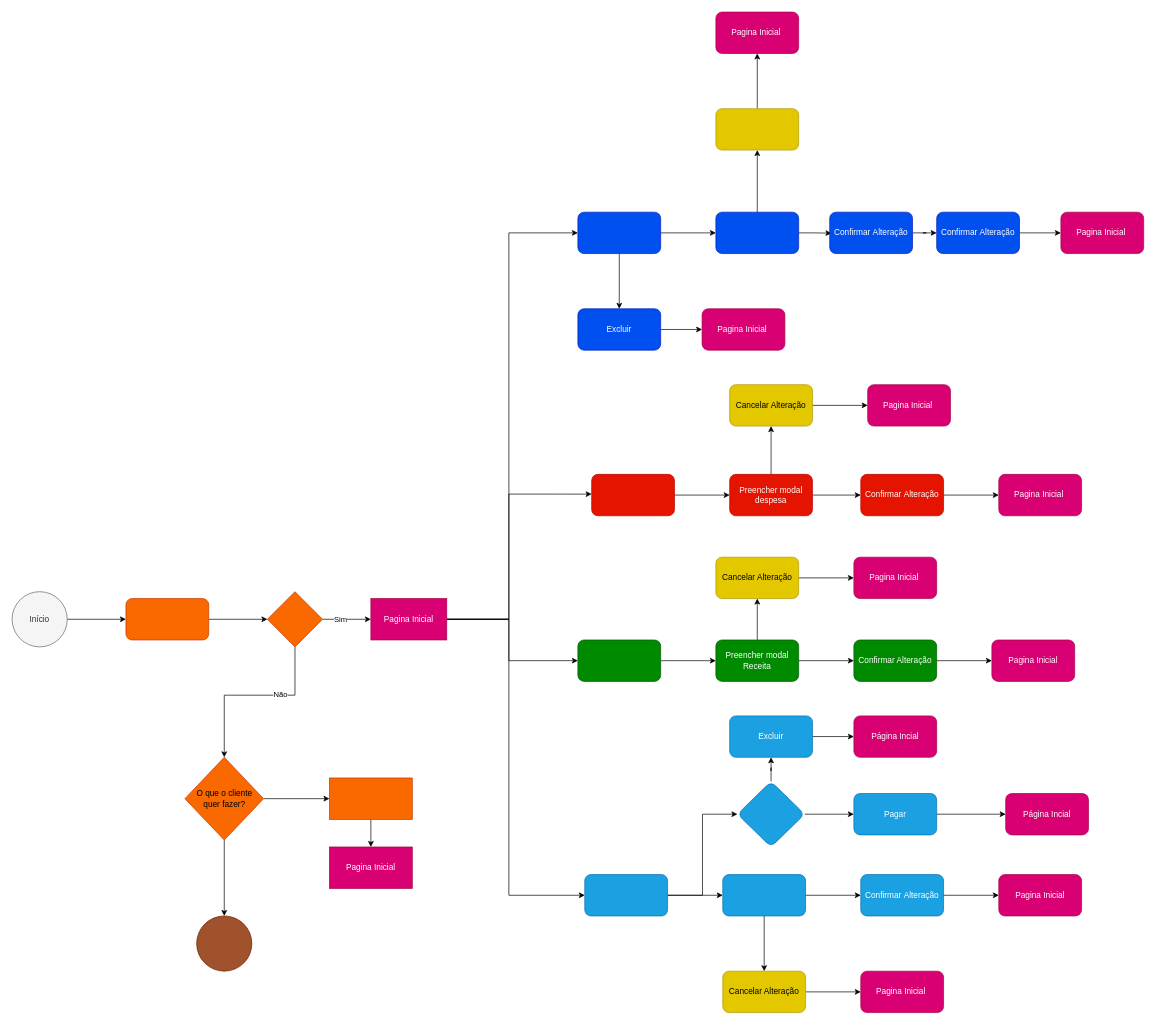
Image size: 1156x1025. Some labels were removed from this diagram. The shapes that lost their labels are listed below. From the top down, each one's centre as x and y in pixels, then its label:
At point (757, 129): "Cancelar Operação".
At point (619, 232): "Editar Categorias".
At point (757, 232): "Criar nova categoria".
At point (632, 495): "Cadastrar despesa".
At point (167, 619): "Login".
At point (295, 619): "Login válido?".
At point (619, 660): "Cadastrar Receita".
At point (370, 798): "Alterar Senha".
At point (771, 814): "Qual o tarefa?".
At point (626, 895): "Editar Transação".
At point (764, 895): "Alterar dados".
At point (224, 943): "FIM".
